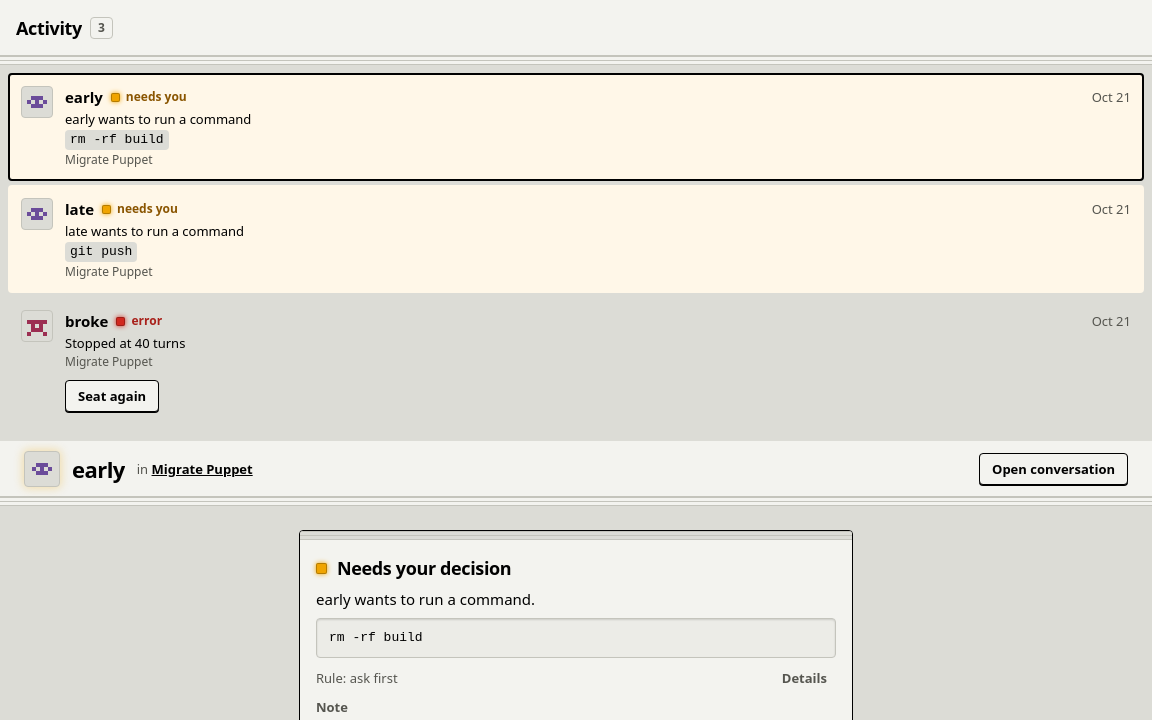
Test case: the inbox › shows the held decision on the card too, with the seconds left and Undo, in place of Deny and Allow
Press d in the element with class "inbox-row" that starts with "early", box [8, 73, 1144, 181]
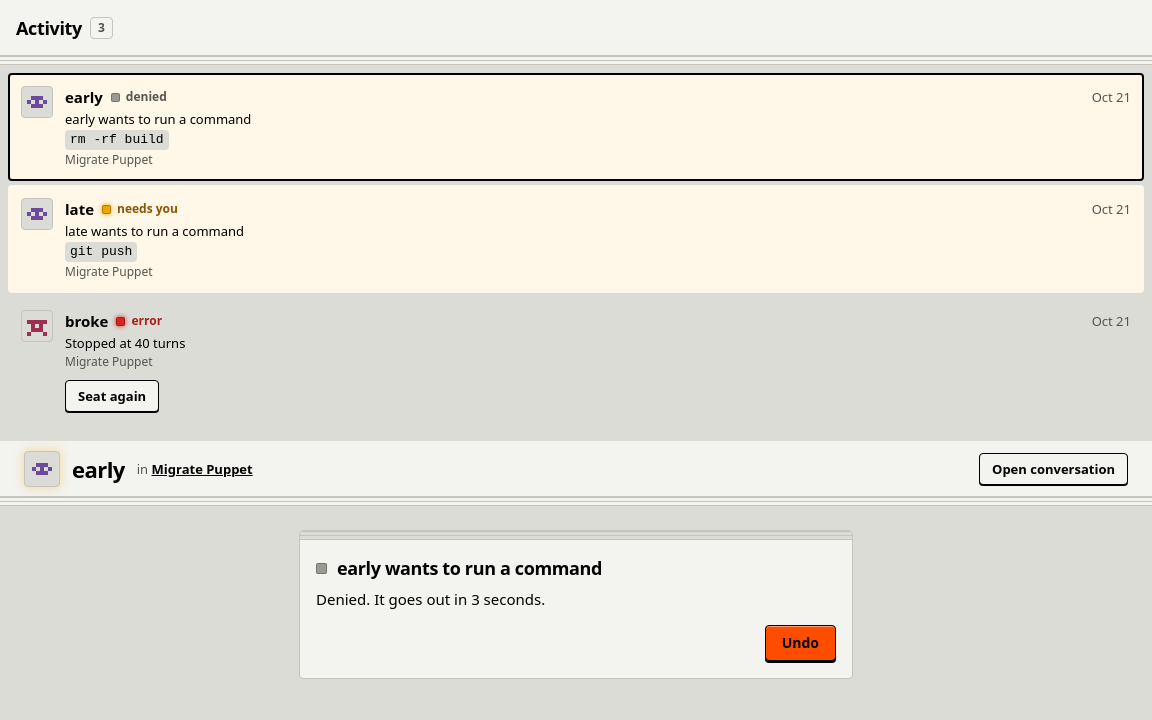
Now the text with class "held-line" reads "Denied. It goes out in 3 seconds.", box [316, 589, 545, 609]
Click the button "Undo" at coordinates (800, 643), box [765, 625, 836, 661]
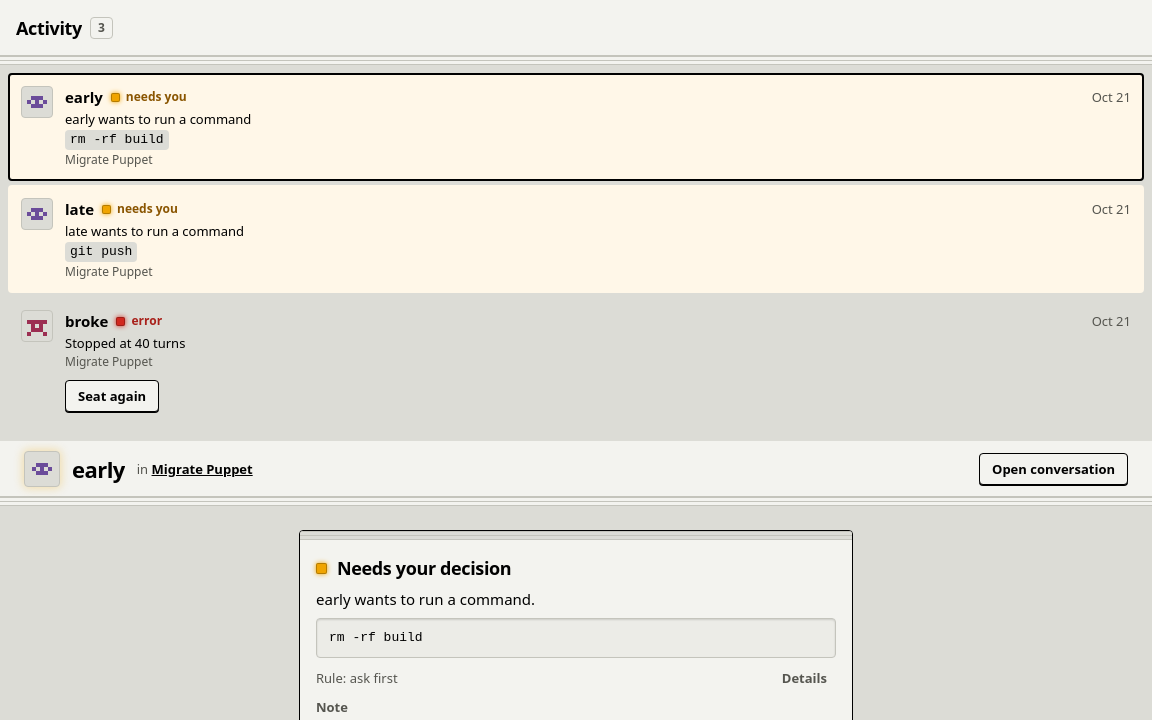
Now the element with class "held" is gone
